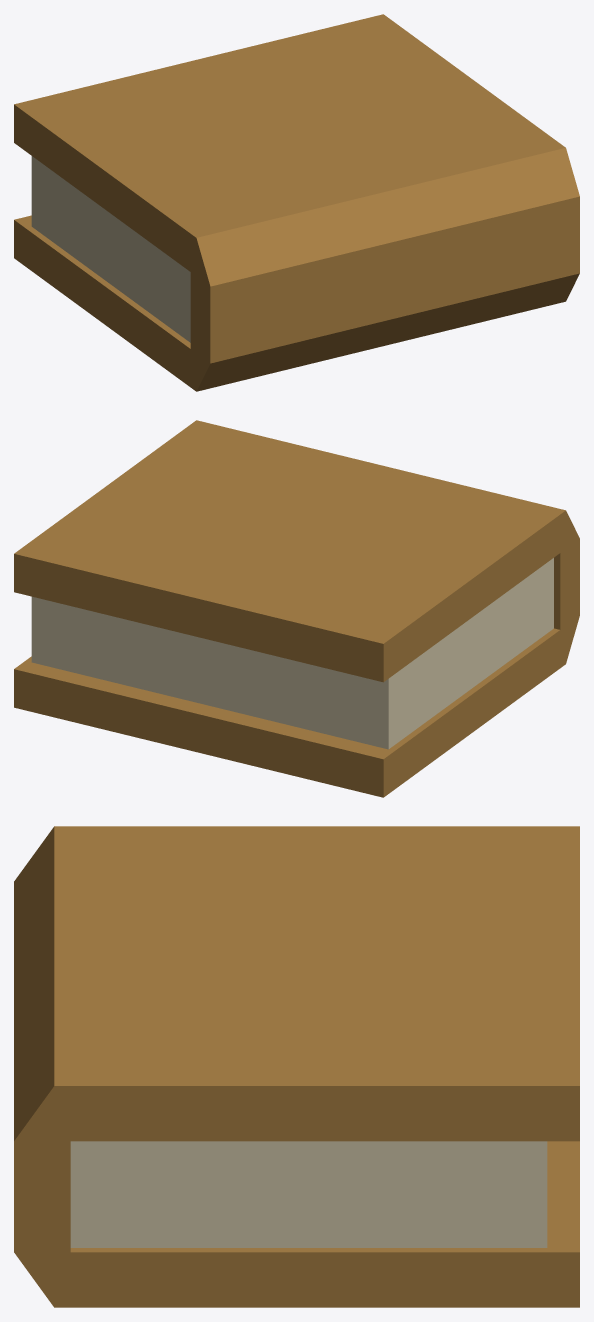
File: msh_book_01.fbx
3 views of the same model, one above another, from view 1: azimuth 30°, elevation 25°; view 2: azimuth 150°, elevation 25°; view 3: azimuth 270°, elevation 25° (orthographic). The views are drawn at different scales.
Parts seen in each view (by area): view 1: msh_book_01; view 2: msh_book_01; view 3: msh_book_01.
Part boxes in pixels (x1,y1,x2,y2): msh_book_01: (14,14,579,391); msh_book_01: (14,420,579,797); msh_book_01: (14,826,579,1307).
Size of the model in its own units: 33.79 by 13.44 by 31.12.
